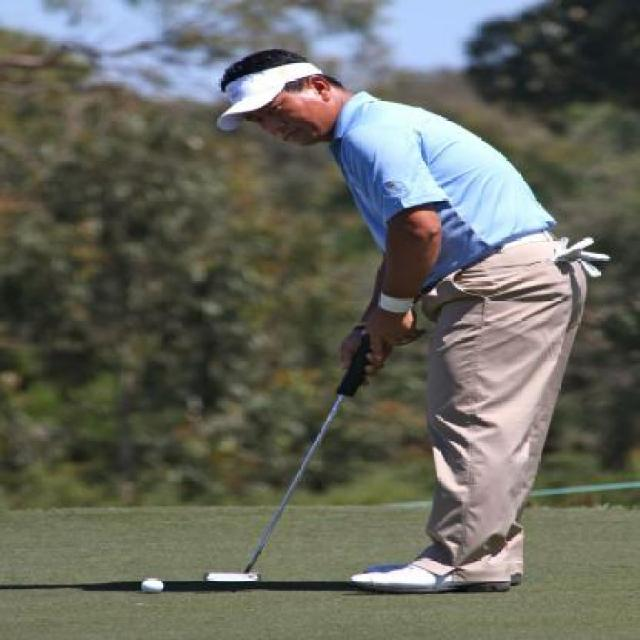club head: (201, 557, 262, 585)
